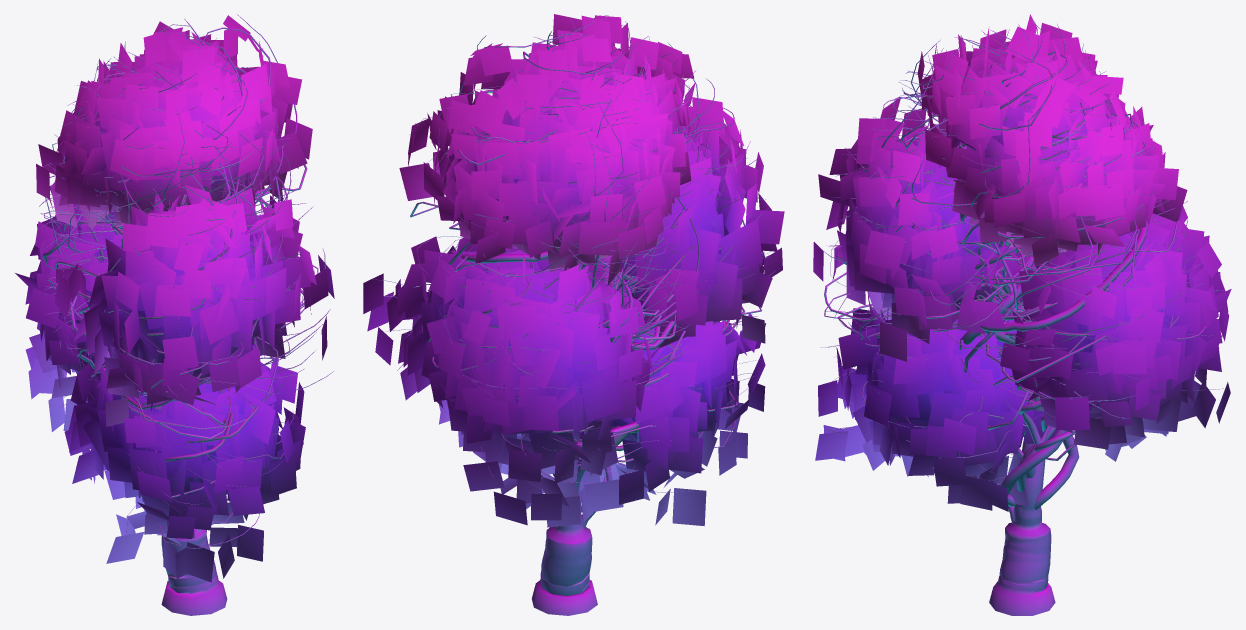
Rendered from tree_birch_s9_a60_x10_wild.fbx.
3 views of the same model, side by side, from view 1: azimuth 30°, elevation 25°; view 2: azimuth 150°, elevation 25°; view 3: azimuth 270°, elevation 25° (orthographic).
Parts seen in each view (by area): view 1: tree_birch_s9_a60_x10_wild_leaves, tree_birch_s9_a60_x10_wild_branches; view 2: tree_birch_s9_a60_x10_wild_leaves, tree_birch_s9_a60_x10_wild_branches; view 3: tree_birch_s9_a60_x10_wild_leaves, tree_birch_s9_a60_x10_wild_branches.
Boxes of the visible parts, left/top/right/bottom form: tree_birch_s9_a60_x10_wild_leaves: left=15, top=15, right=334, bottom=582; tree_birch_s9_a60_x10_wild_branches: left=39, top=14, right=333, bottom=615; tree_birch_s9_a60_x10_wild_leaves: left=363, top=14, right=784, bottom=527; tree_birch_s9_a60_x10_wild_branches: left=373, top=15, right=775, bottom=615; tree_birch_s9_a60_x10_wild_leaves: left=813, top=14, right=1231, bottom=511; tree_birch_s9_a60_x10_wild_branches: left=818, top=20, right=1224, bottom=615.
Size of the model in its own units: 5.14 by 9.17 by 6.11.
